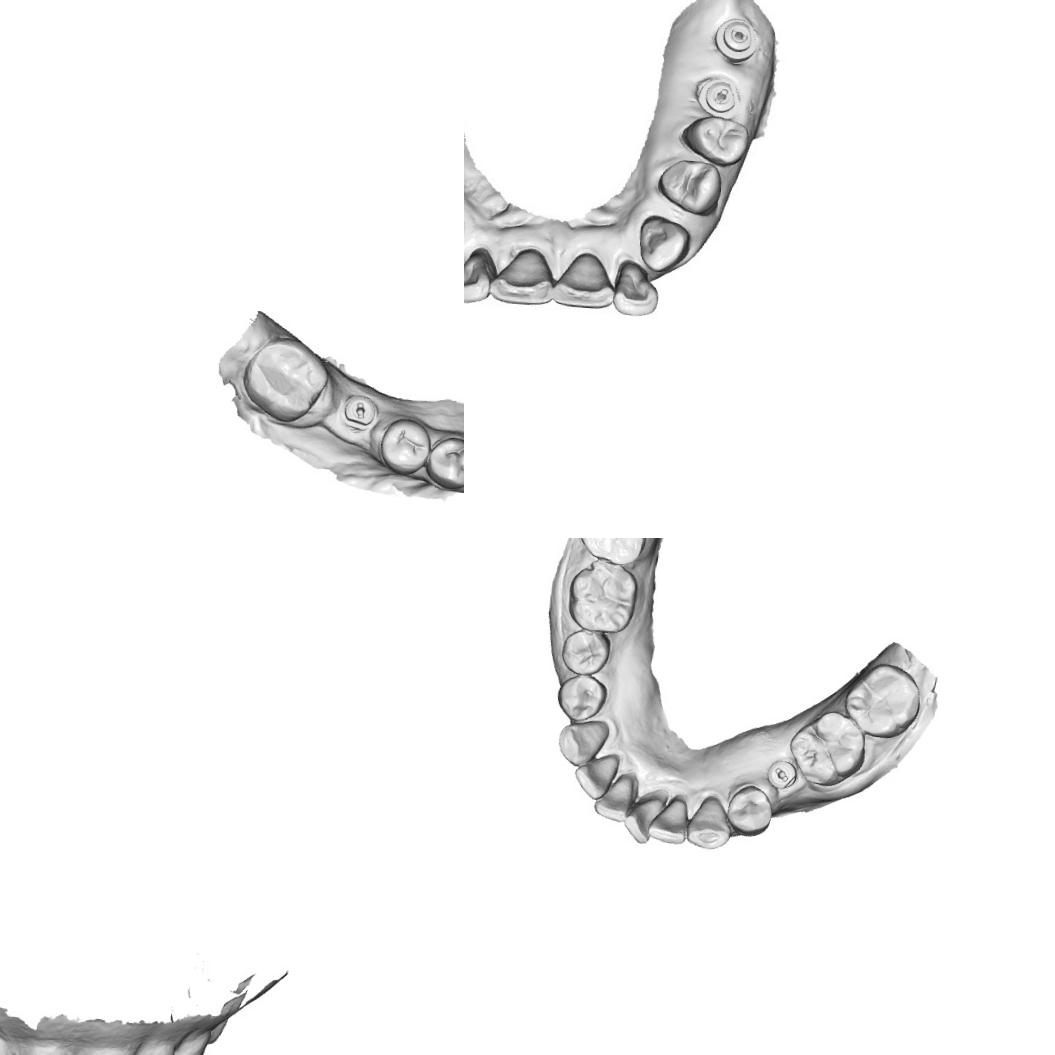canine: (632, 208, 694, 276), (684, 792, 734, 851), (554, 717, 610, 769), (167, 1025, 210, 1055)
implant_minus: (712, 12, 760, 70), (693, 75, 743, 118), (340, 392, 376, 430), (766, 757, 798, 790)
incisor: (486, 246, 558, 308), (548, 254, 616, 314), (609, 258, 661, 320), (572, 752, 619, 800), (645, 795, 688, 845), (621, 794, 663, 845), (592, 773, 634, 823), (464, 246, 497, 307), (9, 1035, 75, 1055), (127, 1035, 175, 1055)
molar: (240, 332, 332, 426), (784, 707, 868, 788), (841, 660, 923, 740), (565, 557, 640, 634), (576, 538, 652, 566)
premolar: (650, 156, 725, 218), (676, 110, 753, 170), (377, 415, 432, 478), (724, 782, 774, 838), (554, 672, 608, 723), (559, 627, 611, 675), (423, 434, 464, 491)
